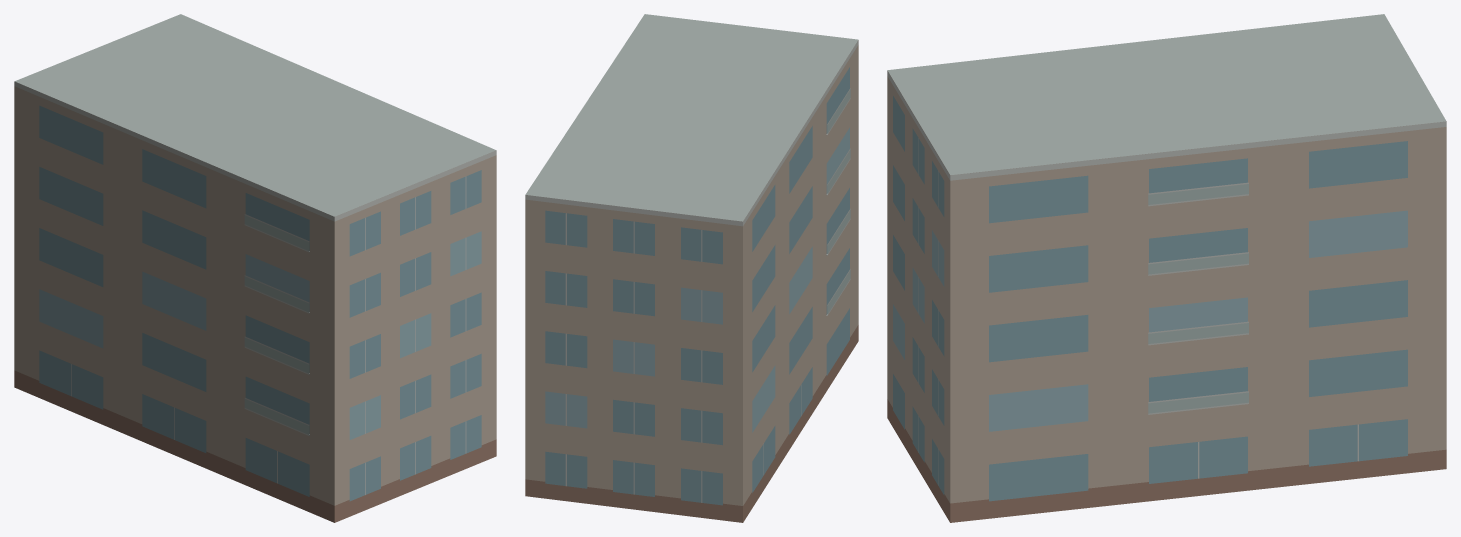
File: survey-upis-32820328.glb
The picture shows the model from 3 angles, left to right: view 1: azimuth 30°, elevation 25°; view 2: azimuth 150°, elevation 25°; view 3: azimuth 270°, elevation 25°; orthographic projection. The views are drawn at different scales.
Parts seen in each view (by area): view 1: survey-upis-32820328.tmp; view 2: survey-upis-32820328.tmp; view 3: survey-upis-32820328.tmp.
Boxes of the visible parts, bbox=[...] form: survey-upis-32820328.tmp: bbox=[14, 14, 496, 522]; survey-upis-32820328.tmp: bbox=[525, 14, 858, 522]; survey-upis-32820328.tmp: bbox=[887, 14, 1446, 522].
Bounding box in the file's own units: 15.43 × 15.5 × 22.61.
